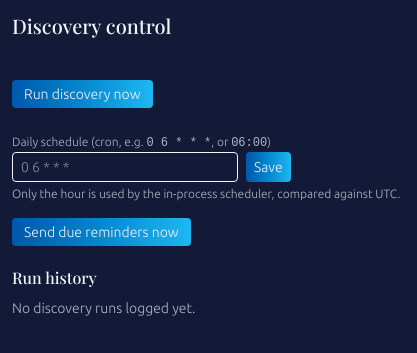
Test: DiscoveryPage › runs discovery now, POSTing the passcode and showing the done message with the failed count
Expected: the text "No discovery runs logged yet." is shown, top-left (12, 300), bottom-right (196, 316)
Click the button "Run discovery now".
click(82, 94)  # box top-left (12, 80), bottom-right (153, 108)
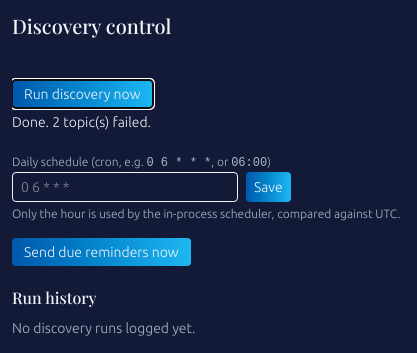
Expected: the text "Done. 2 topic(s) failed." is shown, top-left (12, 114), bottom-right (151, 130)
